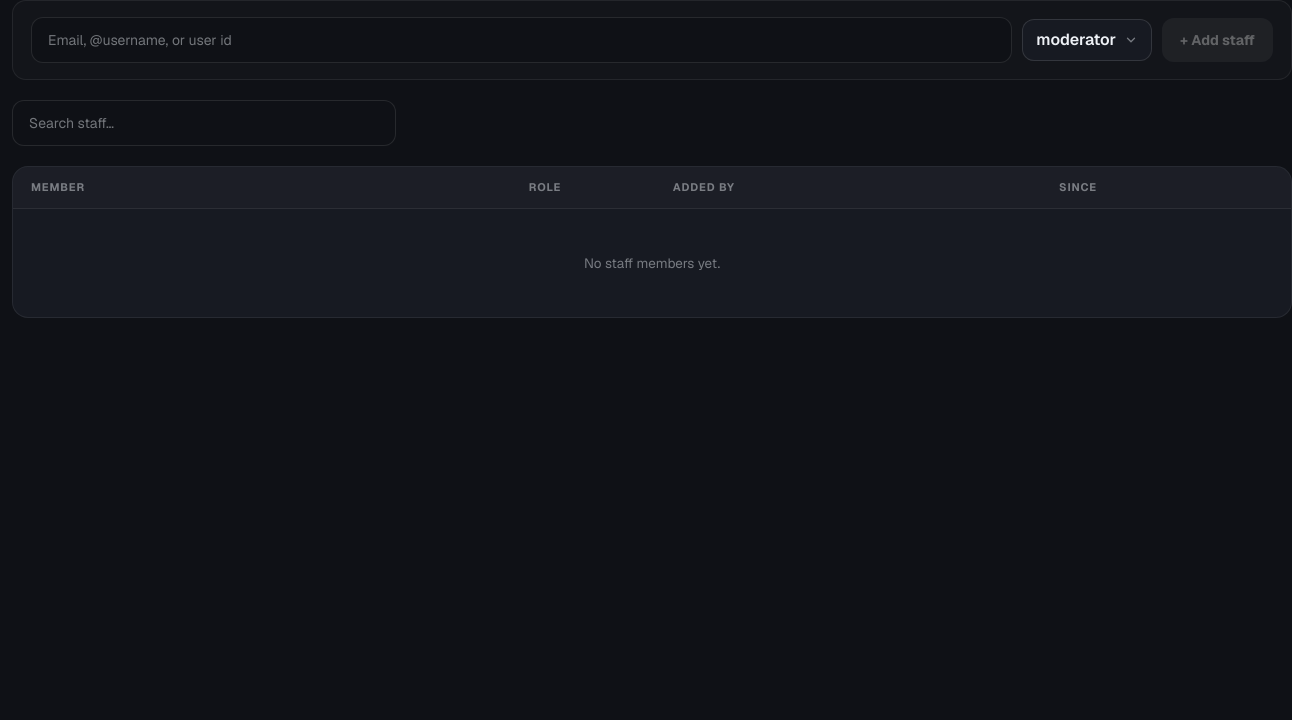
Test: StaffTab › add staff › closes the matches dropdown on an outside click, without resolving
The width and height of the screenshot is (1292, 720).
Expected: the text "No staff members yet." is shown, [584,254,720,272]
Type "bob" into the field named "Email, username, or user id of the user to add as staff" at (522, 40), box [31,17,1012,63]
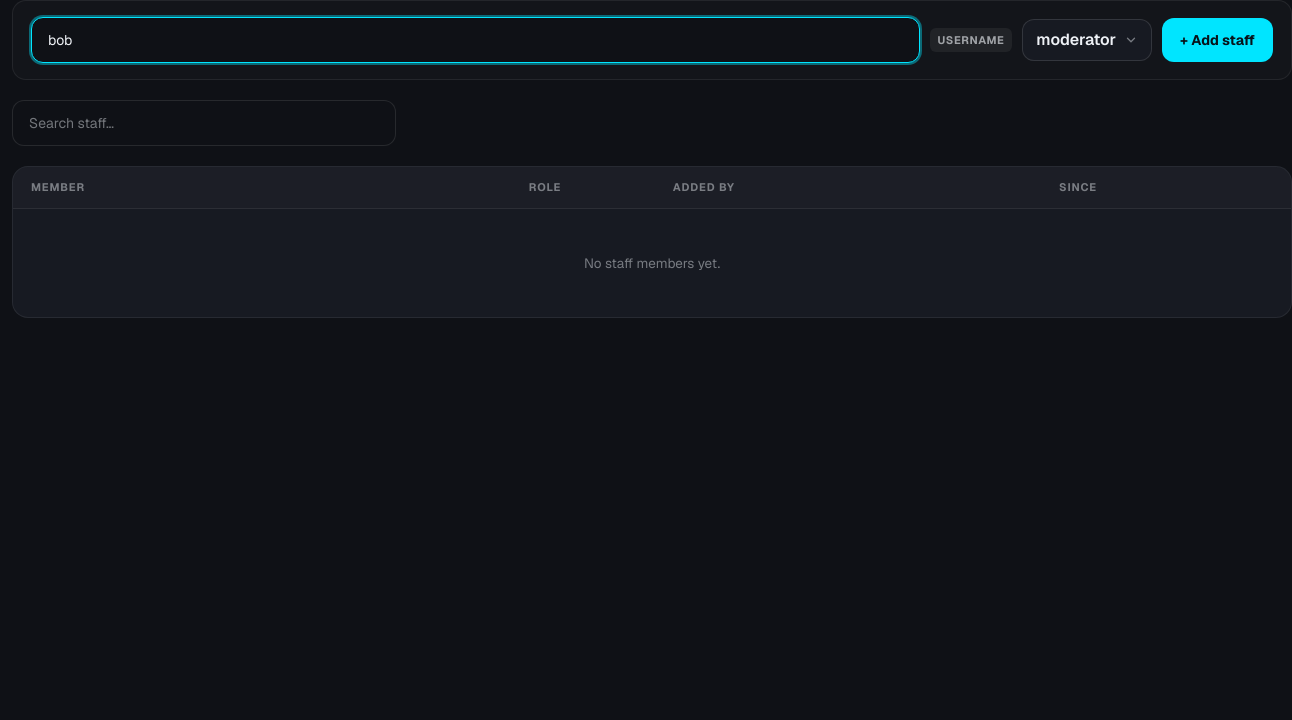
Click the button "+ Add staff" at (1218, 40), box [1162,18,1273,62]
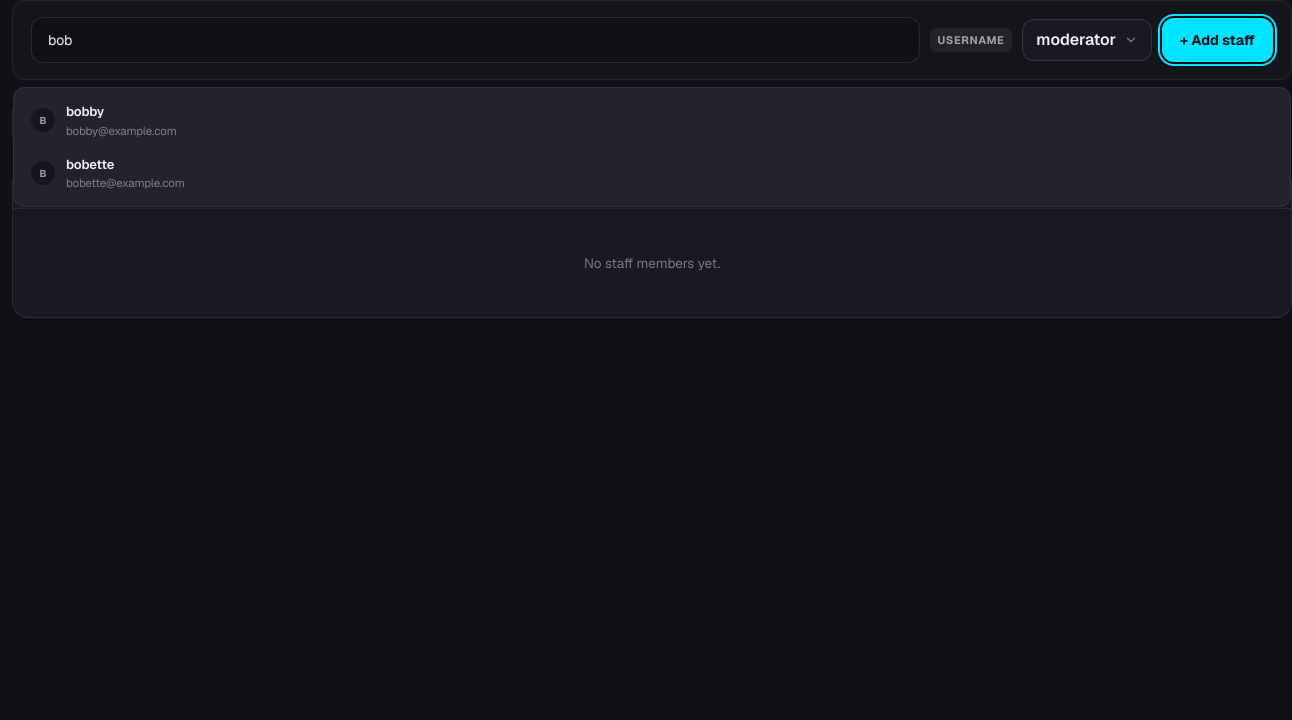
Expected: the list is shown, [13,87,1291,206]
Click the element that starts with "USERNAME" at (652, 360), box [12,0,1291,719]
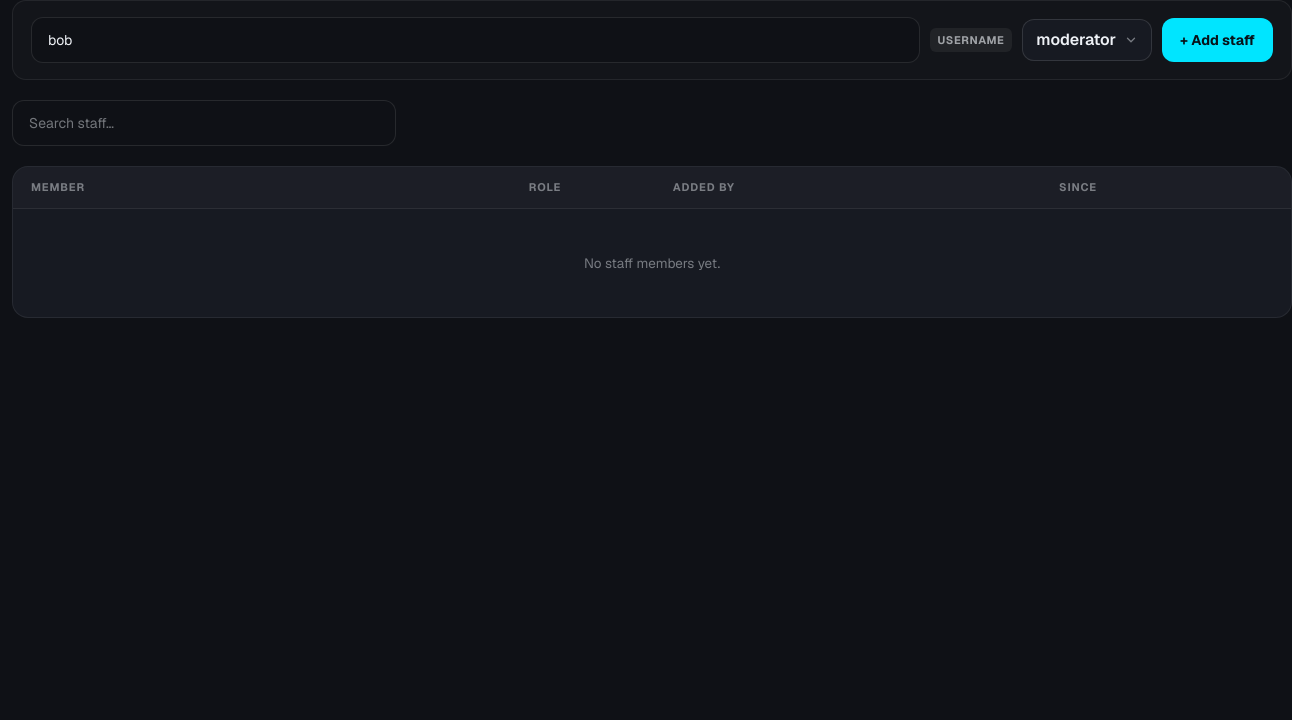
Expected: the list is gone
